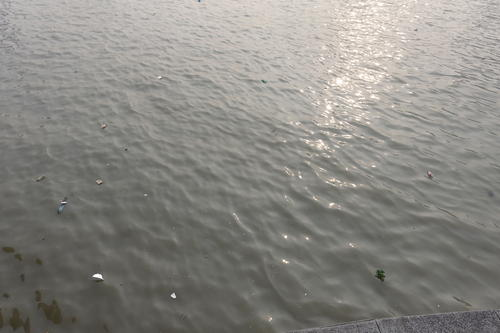rubbish: (54, 192, 70, 214), (373, 265, 387, 283), (281, 163, 295, 180), (31, 170, 46, 185), (229, 209, 243, 224), (424, 166, 435, 181), (90, 270, 105, 281), (167, 289, 179, 301), (94, 175, 104, 186), (98, 120, 108, 131), (259, 76, 268, 83), (121, 144, 129, 151), (411, 26, 420, 32), (155, 73, 163, 79)
